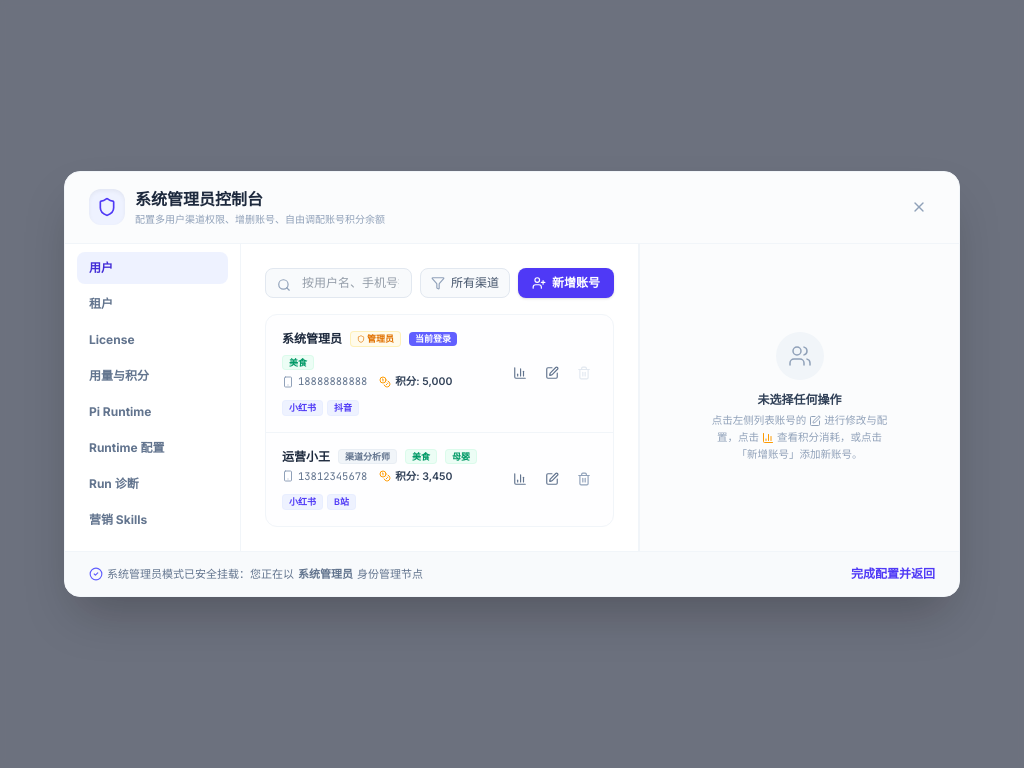
AdminPanel › 积分消耗面板映射 settle/赠送/调整条目
This screenshot has width=1024, height=768.
Check: the text "运营小王" is shown, box [282,448,330,464]
Click the button titled "查看历史营销会话积分消耗状况" in the row of "13812345678": (520, 479) [507,466,533,492]
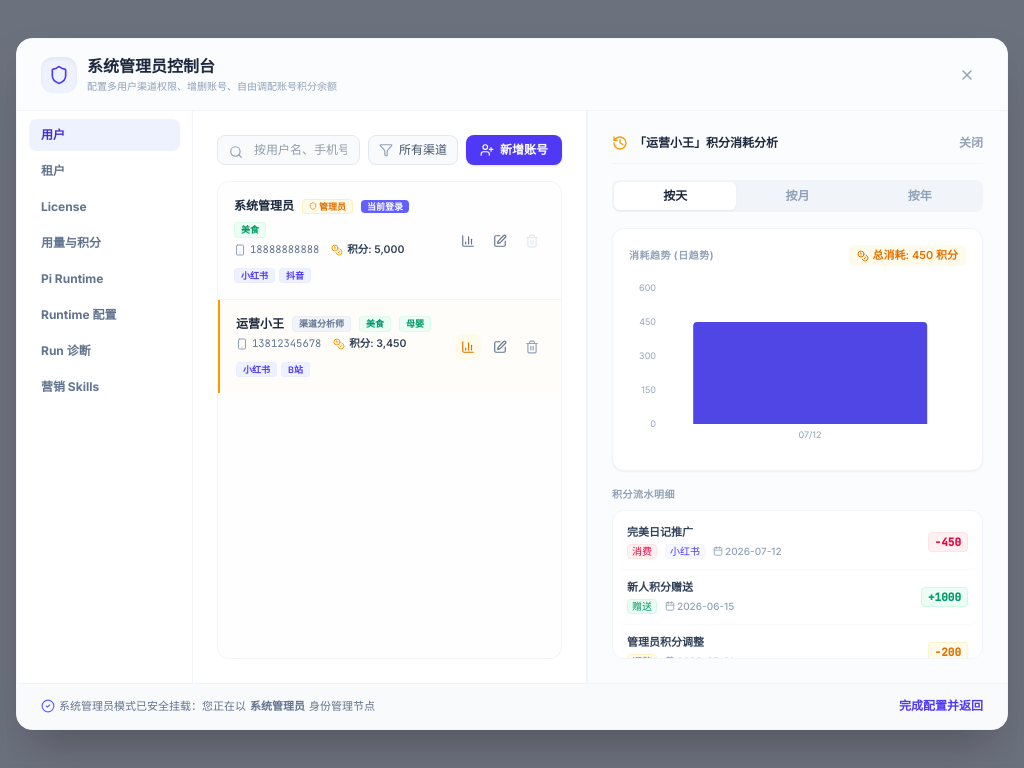
Check: the text "完美日记推广" is shown, box [627,525,693,539]
Check: the text "新人积分赠送" is shown, box [627,580,693,594]
Check: the text "管理员积分调整" is shown, box [627,635,704,649]
